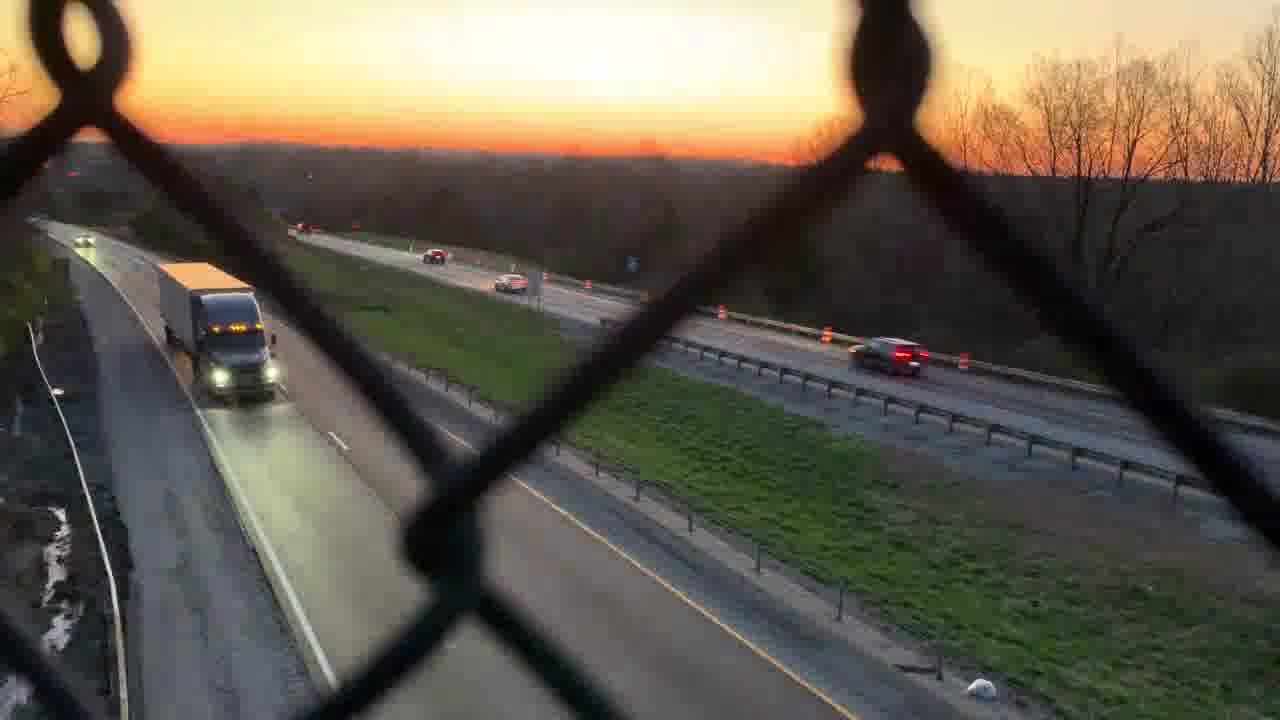heavyTruck: (156, 259, 287, 406)
largeCar: (846, 331, 931, 380)
